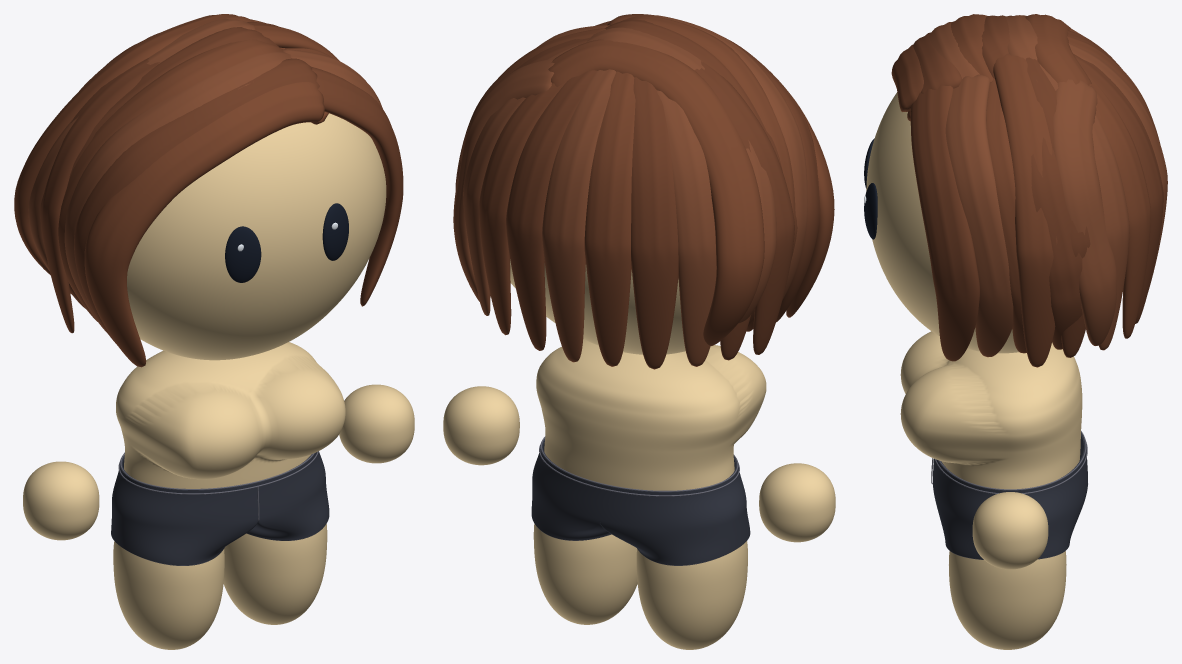
File: Feminine-base.glb
3 views of the same model, side by side, from view 1: azimuth 30°, elevation 25°; view 2: azimuth 150°, elevation 25°; view 3: azimuth 270°, elevation 25° (orthographic).
Visible parts, largest first — view 1: Skin / soft oval head, Skin / rounded torso, Hair / Bob / side sweep 0, Clothing / fixed shorts, Skin / leg blob -1, Skin / leg blob 1, Hair / Bob / side sweep 1, Hair / Bob / side sweep 2, Hair / Bob / side sweep 7, Hair / Bob / side sweep 3, Hair / Bob / side sweep 22, Hair / Bob / side sweep 6 (+8 smaller); view 2: Skin / rounded torso, Hair / Bob / side sweep 6, Clothing / fixed shorts, Hair / Bob / side sweep 19, Hair / Bob / side sweep 18, Hair / Bob / side sweep 17, Hair / Bob / side sweep 16, Hair / Bob / side sweep 20, Skin / leg blob -1, Skin / leg blob 1, Hair / Bob / side sweep 15, Hair / Bob / side sweep 22 (+14 smaller); view 3: Skin / rounded torso, Hair / Bob / side sweep 7, Hair / Bob / side sweep 8, Hair / Bob / side sweep 12, Skin / soft oval head, Hair / Bob / side sweep 11, Skin / leg blob 1, Clothing / fixed shorts, Hair / Bob / side sweep 15, Hair / Bob / side sweep 10, Skin / orb hand 1, Hair / Bob / side sweep 9 (+13 smaller).
Boxes of the visible parts, x1,y1,x2,y2 form: Skin / soft oval head: (127,113,386,360); Skin / rounded torso: (116,342,345,488); Hair / Bob / side sweep 0: (84,82,328,367); Clothing / fixed shorts: (111,451,329,565); Skin / leg blob -1: (113,541,224,649); Skin / leg blob 1: (223,524,327,624); Hair / Bob / side sweep 1: (74,58,319,345); Hair / Bob / side sweep 2: (64,51,291,332); Hair / Bob / side sweep 7: (311,67,403,306); Hair / Bob / side sweep 3: (58,39,282,321); Hair / Bob / side sweep 22: (40,58,160,333); Hair / Bob / side sweep 6: (14,14,254,275); Skin / rounded torso: (536,339,766,490); Hair / Bob / side sweep 6: (548,39,764,346); Clothing / fixed shorts: (531,439,750,565); Hair / Bob / side sweep 19: (631,77,678,369); Hair / Bob / side sweep 18: (584,71,635,366); Hair / Bob / side sweep 17: (542,69,615,362); Hair / Bob / side sweep 16: (506,70,596,350); Hair / Bob / side sweep 20: (657,90,716,366); Skin / leg blob -1: (636,541,747,649); Skin / leg blob 1: (533,524,637,624); Hair / Bob / side sweep 15: (479,82,566,335); Hair / Bob / side sweep 22: (694,61,794,354); Skin / rounded torso: (900,331,1082,489); Hair / Bob / side sweep 7: (910,85,979,361); Hair / Bob / side sweep 8: (945,74,1013,357); Hair / Bob / side sweep 12: (993,53,1057,367); Skin / soft oval head: (866,92,1052,353); Hair / Bob / side sweep 11: (1053,79,1116,345); Skin / leg blob 1: (949,551,1066,649); Clothing / fixed shorts: (932,433,1087,559); Hair / Bob / side sweep 15: (1087,75,1150,338); Hair / Bob / side sweep 10: (1031,137,1082,349); Skin / orb hand 1: (972,492,1048,569); Hair / Bob / side sweep 9: (986,78,1026,353).
Size of the model in its own units: 1.23 by 1.86 by 0.8643.
